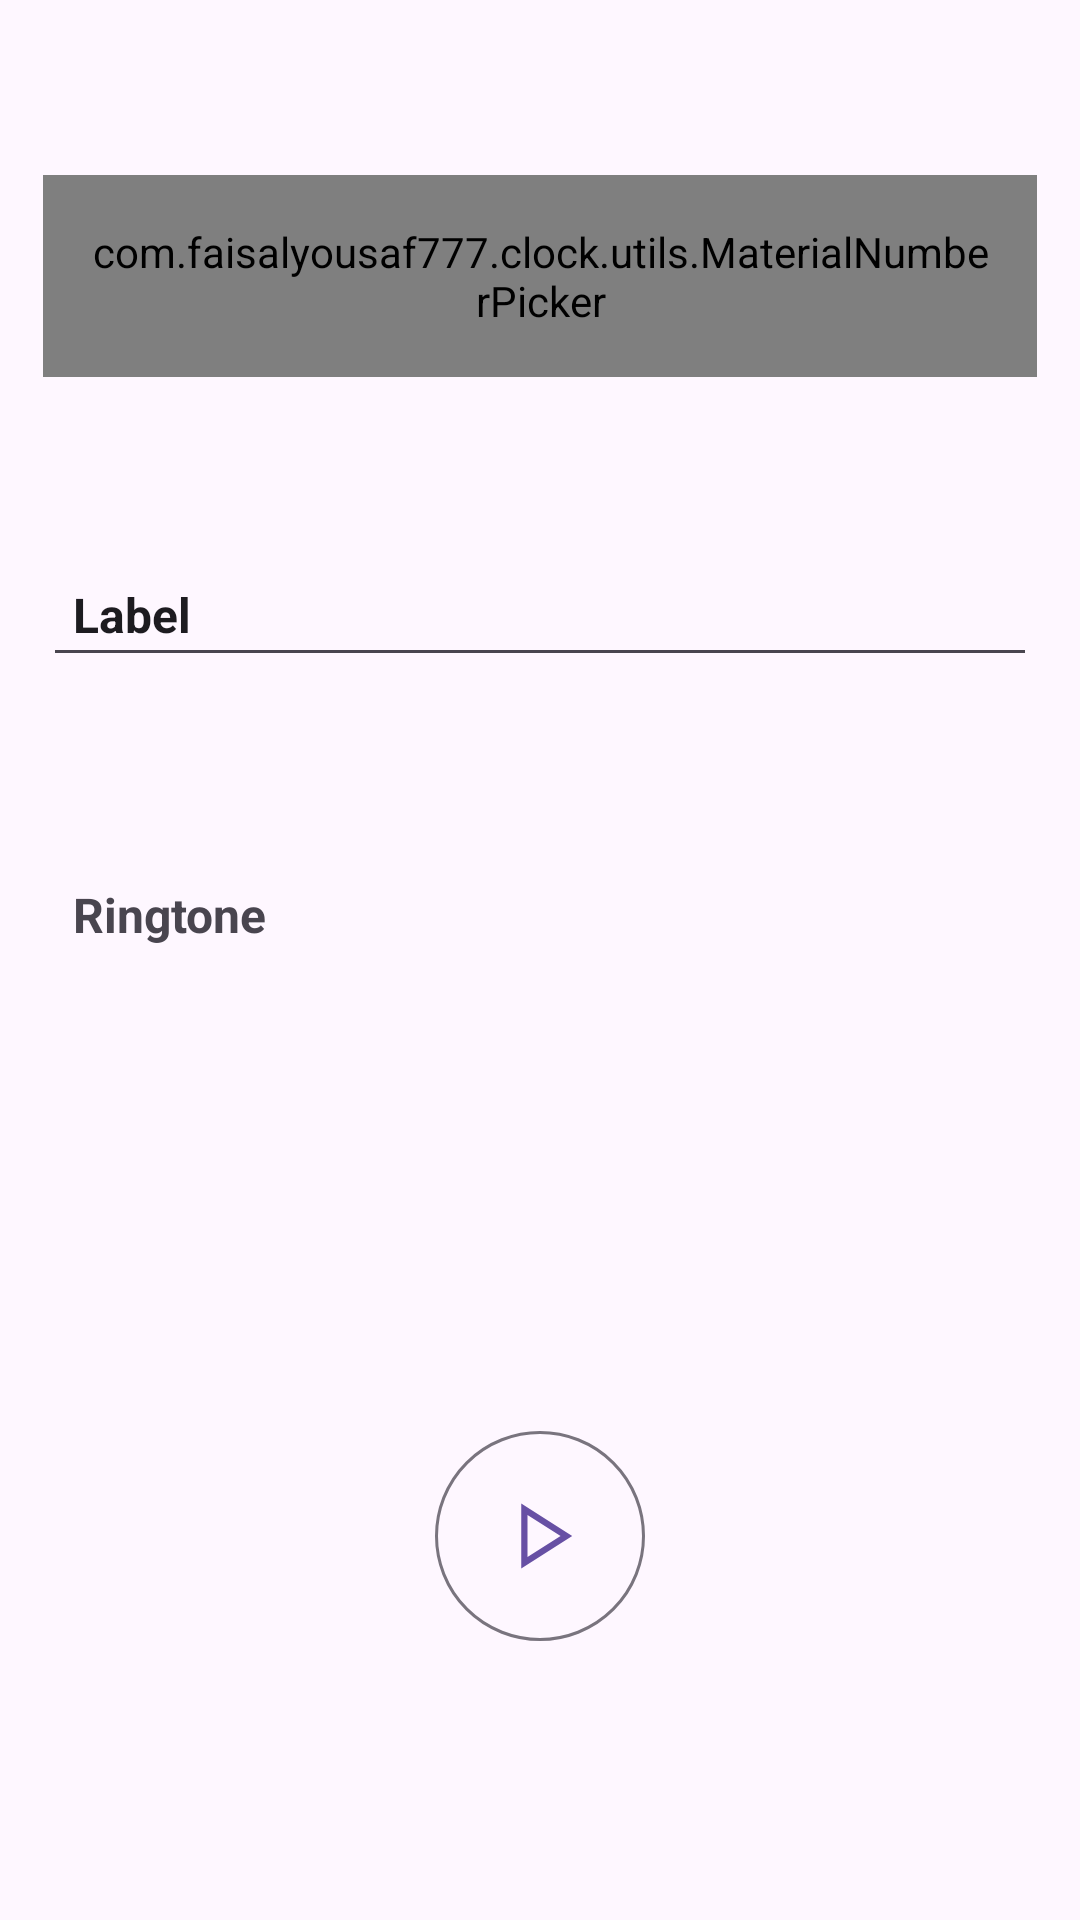

Icon click points for this 1080 × 1920 phone screenshot, format (x=x, y=y):
play arrow: (x=540, y=1536)
